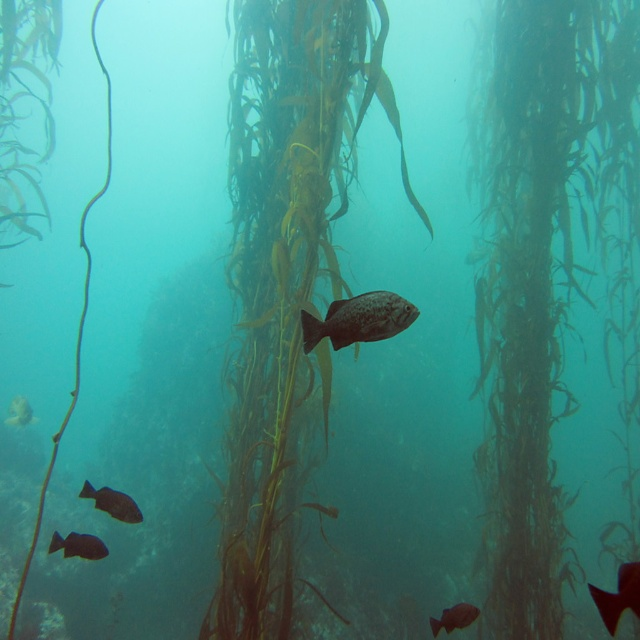Fish: (300, 289, 421, 357), (588, 561, 640, 639), (77, 480, 145, 525), (429, 603, 481, 640), (49, 532, 109, 561)
